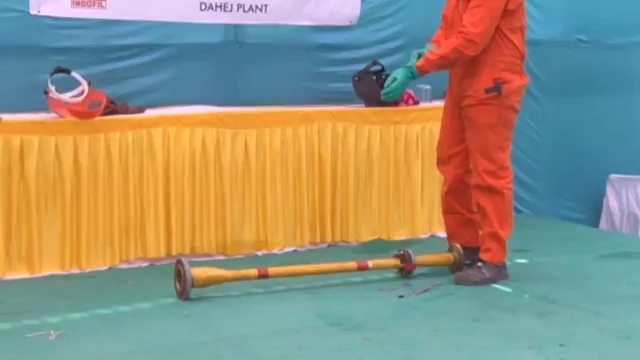person: (377, 1, 535, 297)
